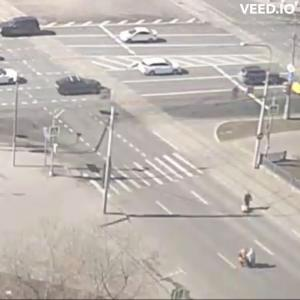car: (57, 73, 104, 99), (1, 17, 47, 41), (138, 59, 185, 78), (124, 25, 163, 45), (242, 67, 269, 87), (1, 68, 19, 85)
